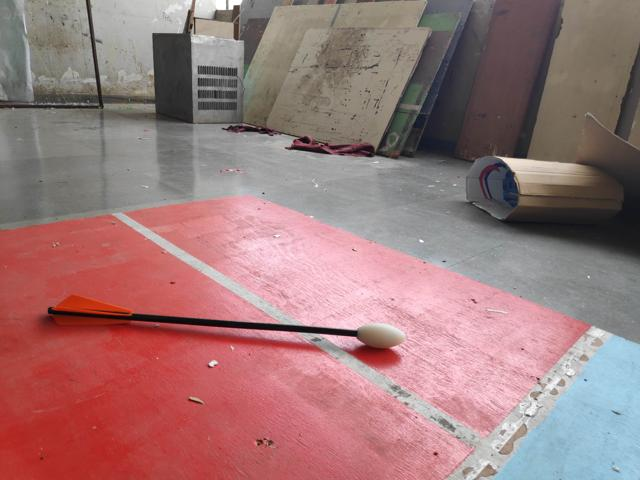Head: (354, 321, 407, 353)
